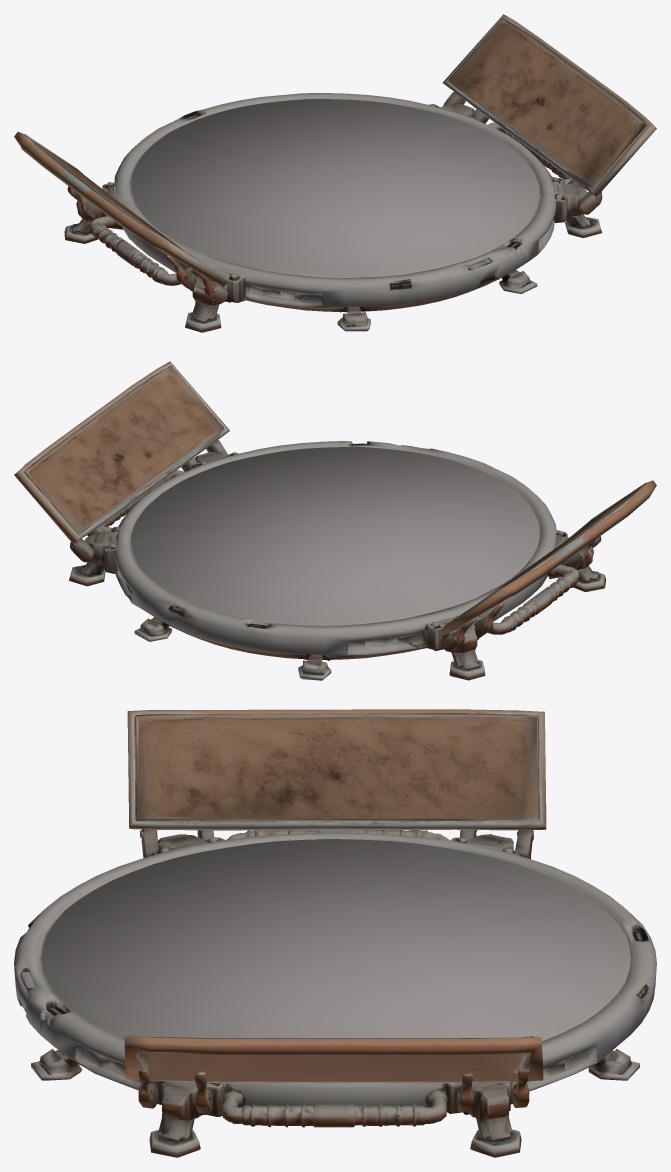
File: chargepad.glb
3 renders of one model, top to bottom at view 1: azimuth 30°, elevation 25°; view 2: azimuth 150°, elevation 25°; view 3: azimuth 270°, elevation 25°, orthographic. The views are drawn at different scales.
Parts seen in each view (by area): view 1: tripo_node_ffd01418-0efd-4541-a101-c525ae91a895; view 2: tripo_node_ffd01418-0efd-4541-a101-c525ae91a895; view 3: tripo_node_ffd01418-0efd-4541-a101-c525ae91a895.
Part boxes in pixels (left/top/right/bottom): tripo_node_ffd01418-0efd-4541-a101-c525ae91a895: left=14, top=14, right=656, bottom=332; tripo_node_ffd01418-0efd-4541-a101-c525ae91a895: left=14, top=361, right=656, bottom=680; tripo_node_ffd01418-0efd-4541-a101-c525ae91a895: left=14, top=709, right=656, bottom=1157.
Bounding box in the file's own units: 0.998 × 0.2012 × 0.8066.
1 material, 1 textured.
